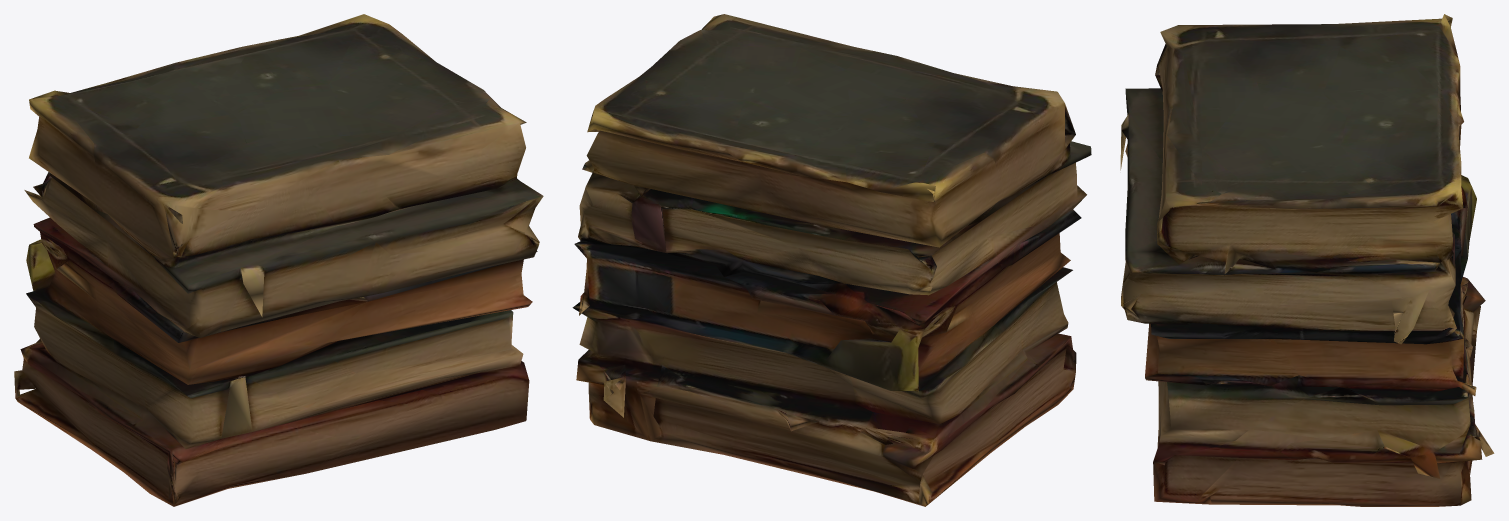
Rendered from book-stack.glb.
The picture shows the model from 3 angles, left to right: view 1: azimuth 30°, elevation 25°; view 2: azimuth 150°, elevation 25°; view 3: azimuth 270°, elevation 25°; orthographic projection. The views are drawn at different scales.
Visible parts, largest first — view 1: tripo_node_b0bc07d4-5ee7-4d6a-bada-aa9c57ea31f4; view 2: tripo_node_b0bc07d4-5ee7-4d6a-bada-aa9c57ea31f4; view 3: tripo_node_b0bc07d4-5ee7-4d6a-bada-aa9c57ea31f4.
Boxes of the visible parts, bbox=[...] form: tripo_node_b0bc07d4-5ee7-4d6a-bada-aa9c57ea31f4: bbox=[14, 14, 543, 506]; tripo_node_b0bc07d4-5ee7-4d6a-bada-aa9c57ea31f4: bbox=[572, 14, 1091, 506]; tripo_node_b0bc07d4-5ee7-4d6a-bada-aa9c57ea31f4: bbox=[1120, 14, 1494, 506].
Bounding box in the file's own units: 1 × 0.8052 × 0.8435.
Materials: 1 (1 with a texture image).
